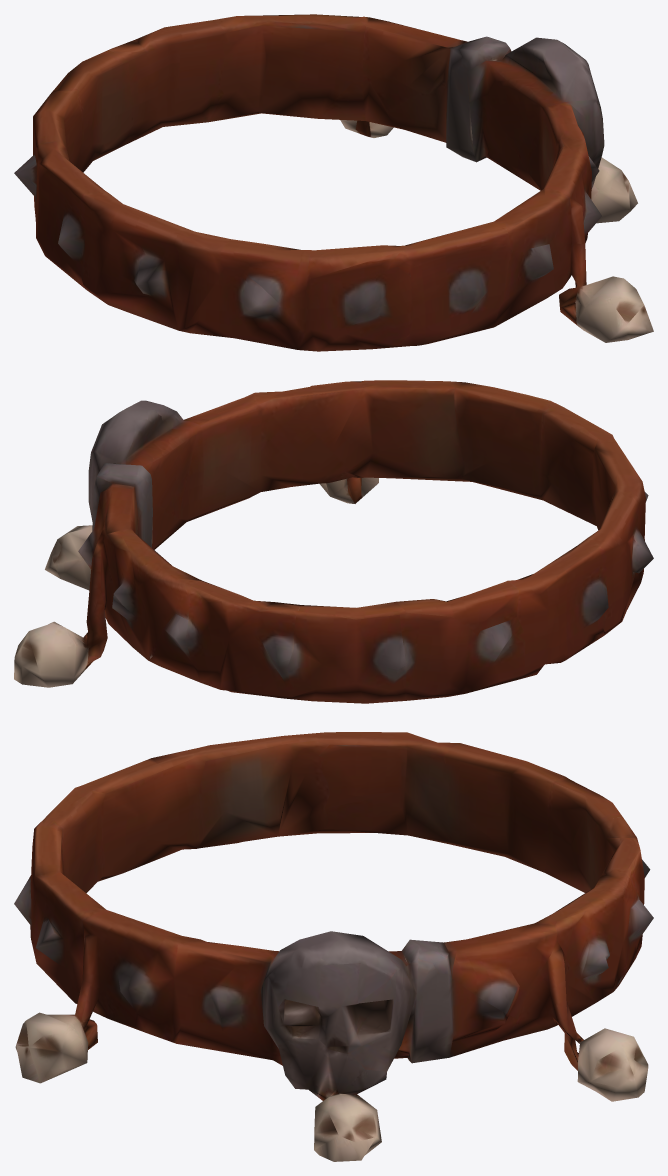
Rendered from uq_belt_skulls-B1jnA3vJ.glb.
The picture shows the model from 3 angles, top to bottom: view 1: azimuth 30°, elevation 25°; view 2: azimuth 150°, elevation 25°; view 3: azimuth 270°, elevation 25°; orthographic projection. The views are drawn at different scales.
Parts seen in each view (by area): view 1: tripo_node_f54cb626-6634-43a1-9763-09c7cc38bf53; view 2: tripo_node_f54cb626-6634-43a1-9763-09c7cc38bf53; view 3: tripo_node_f54cb626-6634-43a1-9763-09c7cc38bf53.
Boxes of the visible parts, box(x1,y1,x2,y2) form: tripo_node_f54cb626-6634-43a1-9763-09c7cc38bf53: box(14, 14, 653, 351); tripo_node_f54cb626-6634-43a1-9763-09c7cc38bf53: box(14, 380, 653, 703); tripo_node_f54cb626-6634-43a1-9763-09c7cc38bf53: box(14, 732, 653, 1161).
Bounding box in the file's own units: 1 × 0.3117 × 0.9393.
Materials: 1 (1 with a texture image).
